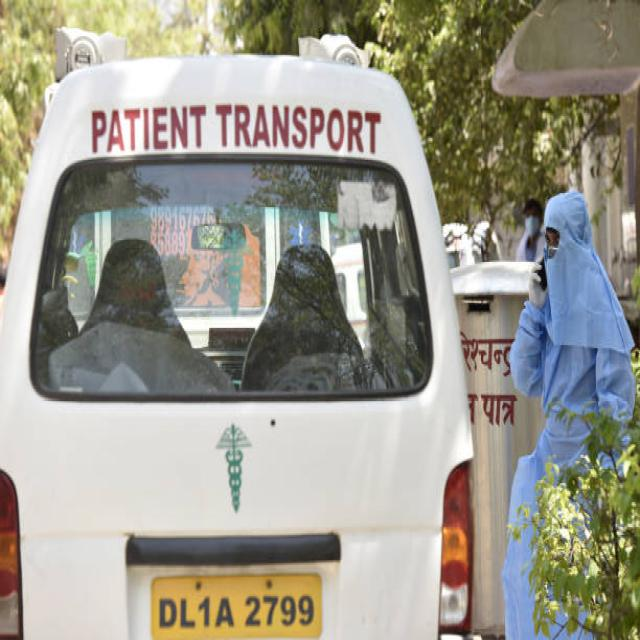ambulance: (78, 84, 399, 196), (202, 411, 268, 532)
